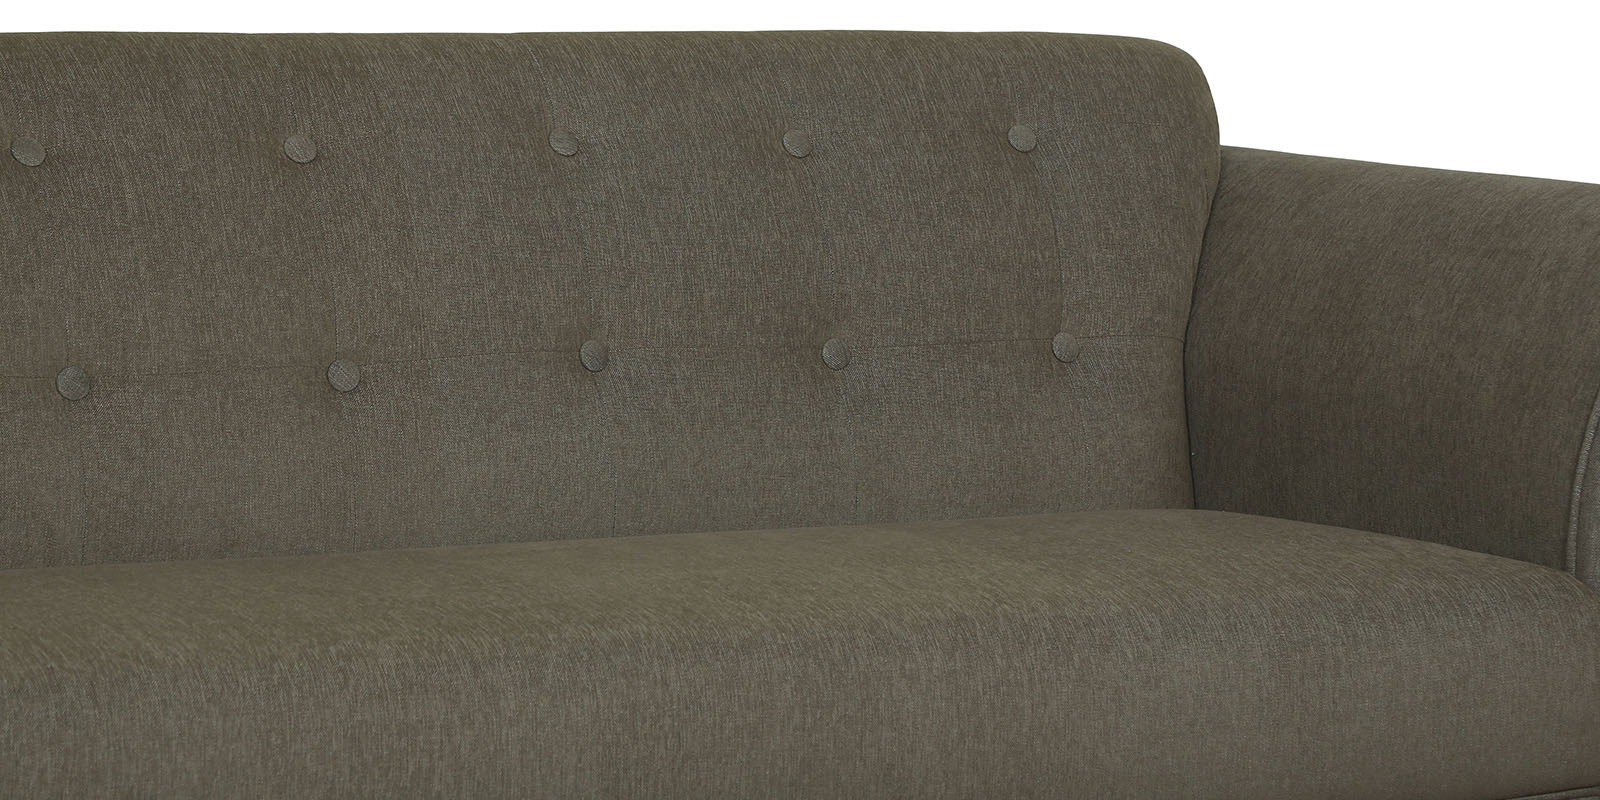Belem Three Seater Sofa in Ice Blue Color by CasaCraft: (26, 29, 1600, 660)
